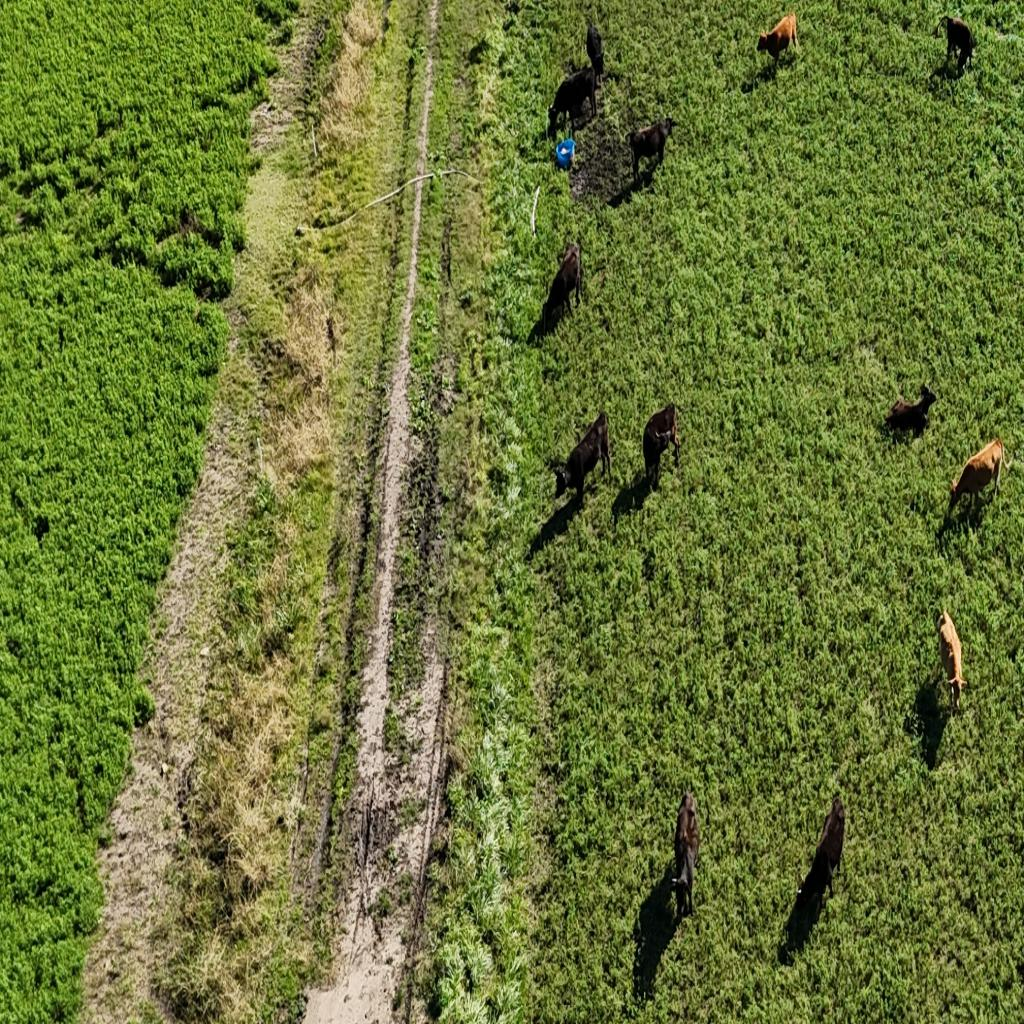cow: (798, 795, 850, 920), (548, 413, 611, 510), (948, 436, 1010, 514), (671, 792, 703, 920), (542, 240, 585, 334), (930, 600, 965, 713), (547, 64, 600, 138), (642, 402, 682, 494), (880, 383, 938, 443), (628, 116, 676, 184), (756, 9, 800, 77), (934, 12, 977, 72), (586, 20, 606, 98)
